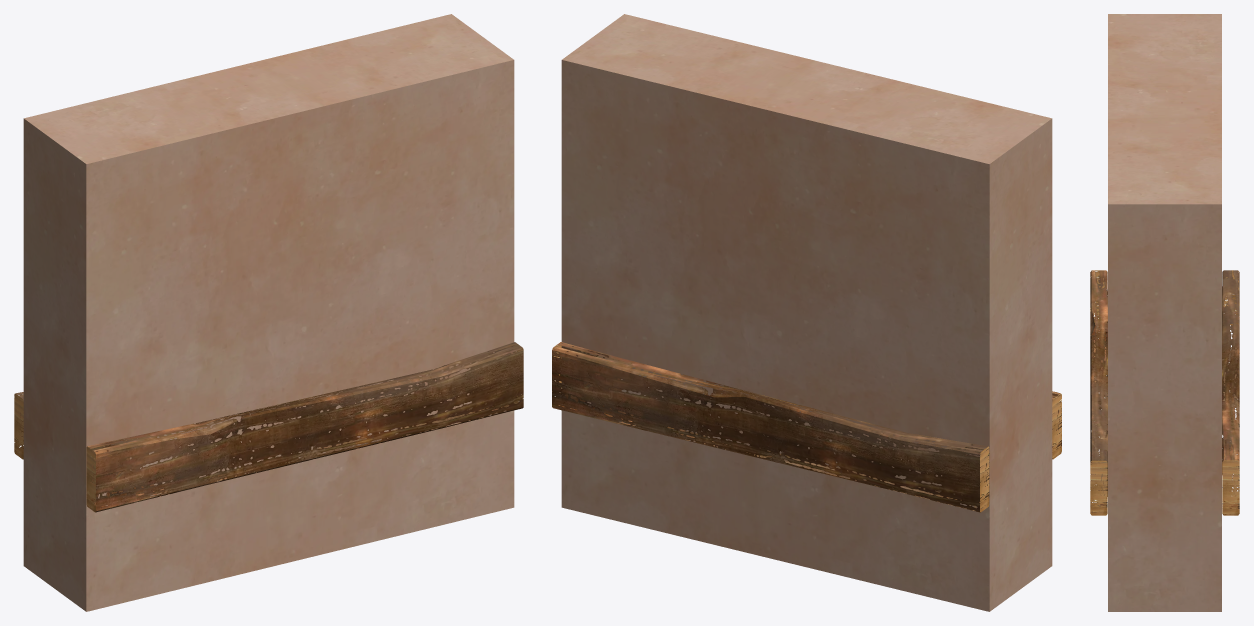
3 views of the same model, side by side, from view 1: azimuth 30°, elevation 25°; view 2: azimuth 150°, elevation 25°; view 3: azimuth 270°, elevation 25° (orthographic). The views are drawn at different scales.
Parts seen in each view (by area): view 1: SM_BB_T4_Wall_Med_01_LOD0; view 2: SM_BB_T4_Wall_Med_01_LOD0; view 3: SM_BB_T4_Wall_Med_01_LOD0.
Boxes of the visible parts, x1=… form: SM_BB_T4_Wall_Med_01_LOD0: x1=14, y1=14, x2=523, y2=611; SM_BB_T4_Wall_Med_01_LOD0: x1=552, y1=14, x2=1061, y2=611; SM_BB_T4_Wall_Med_01_LOD0: x1=1090, y1=14, x2=1239, y2=611.
Size of the model in its own units: 1.5 by 1.5 by 0.4973.
Materials: 2 (2 with a texture image).
